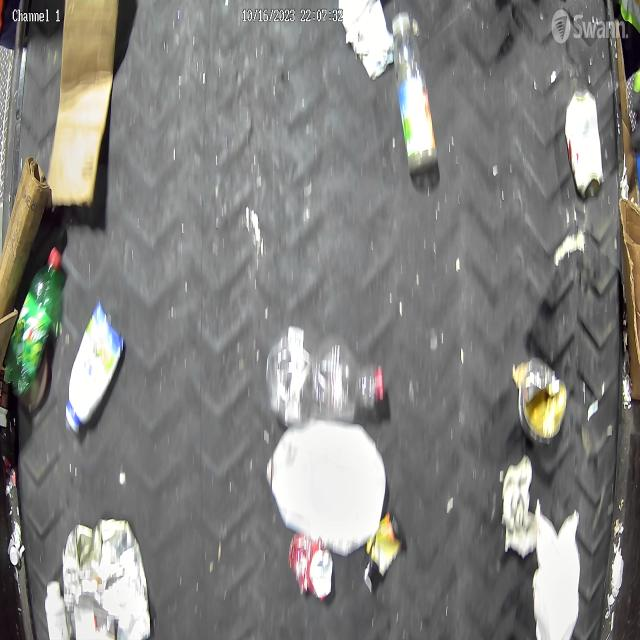can: (564, 86, 605, 200), (288, 533, 333, 600)
milk_jug: (266, 417, 386, 554)
plastic_bottle: (265, 330, 386, 428), (4, 246, 62, 396), (395, 9, 438, 174)
